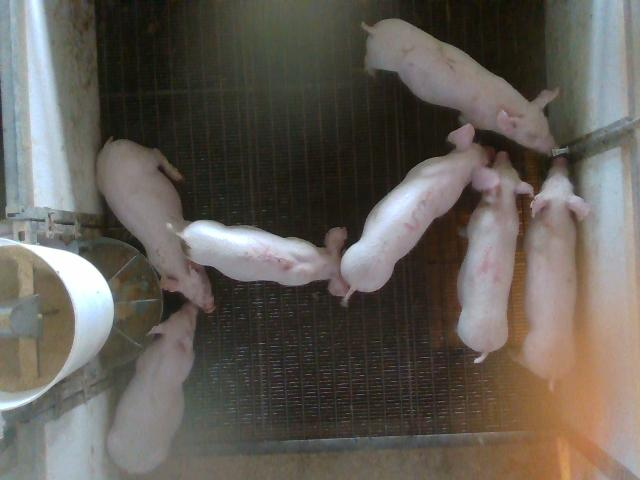pig-3: (341, 124, 499, 304)
pig-4: (456, 151, 532, 363)
pig-5: (178, 220, 349, 296)
